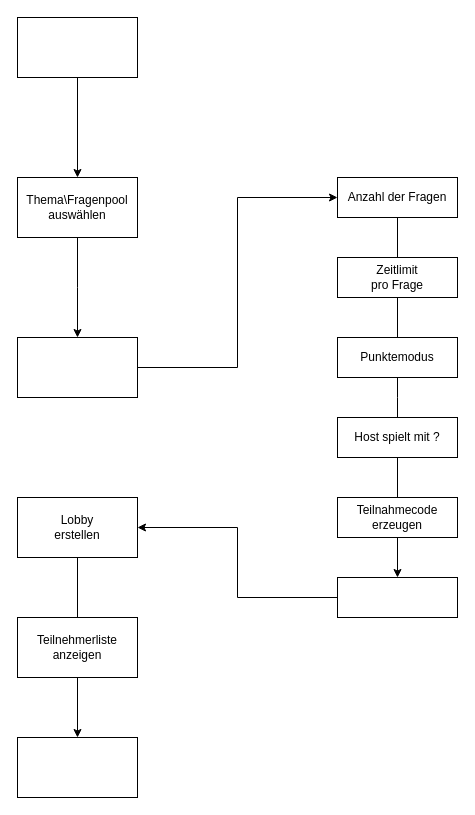
Image size: 475x815. Some labels were removed from this diagram. Each missing label, with the centre of its shape:
"Quiz erstellen" goes at (x=77, y=47).
"Quiz Optionen" goes at (x=77, y=367).
"Quiz starten" goes at (x=77, y=767).
"Quizfragen holen" goes at (x=397, y=597).
